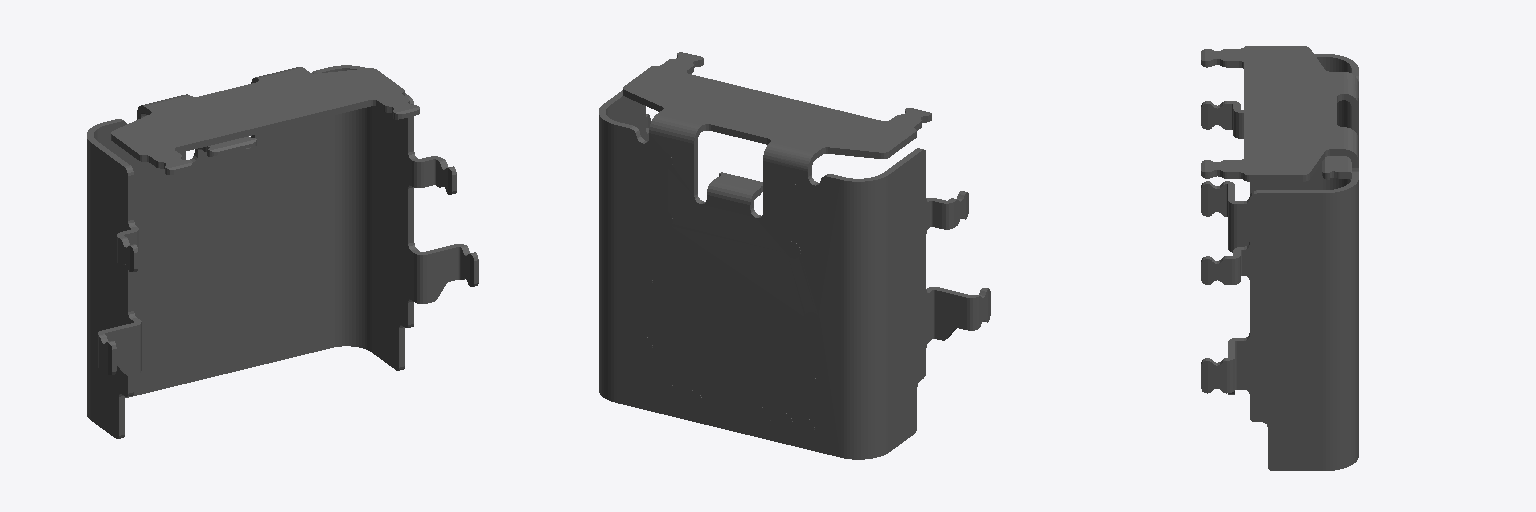
File: topshell.obj
3 views of the same model, side by side, from view 1: azimuth 30°, elevation 25°; view 2: azimuth 150°, elevation 25°; view 3: azimuth 270°, elevation 25° (orthographic).
Parts seen in each view (by area): view 1: topshell_metallic; view 2: topshell_metallic; view 3: topshell_metallic.
Boxes of the visible parts, <box> form: topshell_metallic: <box>87,65,478,438</box>; topshell_metallic: <box>599,52,990,459</box>; topshell_metallic: <box>1201,46,1358,470</box>.
Bounding box in the file's own units: 0.0118 × 0.0089 × 0.0044.